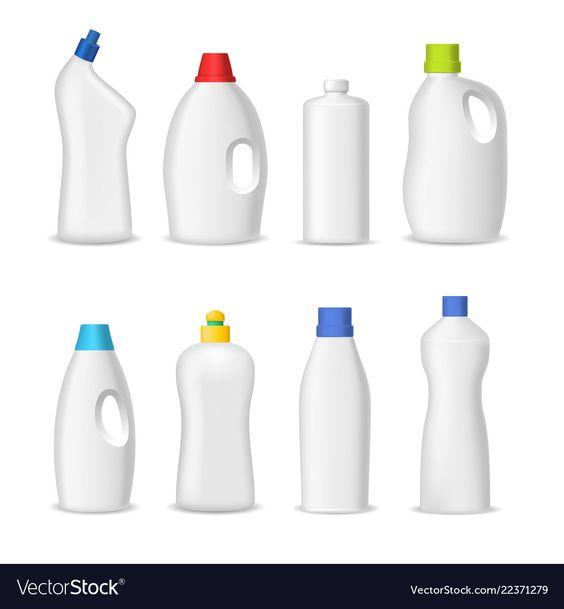HDPE: (11, 0, 152, 262), (391, 15, 526, 263), (151, 31, 284, 259), (285, 279, 392, 532), (163, 289, 276, 528), (407, 283, 516, 530), (43, 291, 152, 524), (291, 43, 396, 256)
